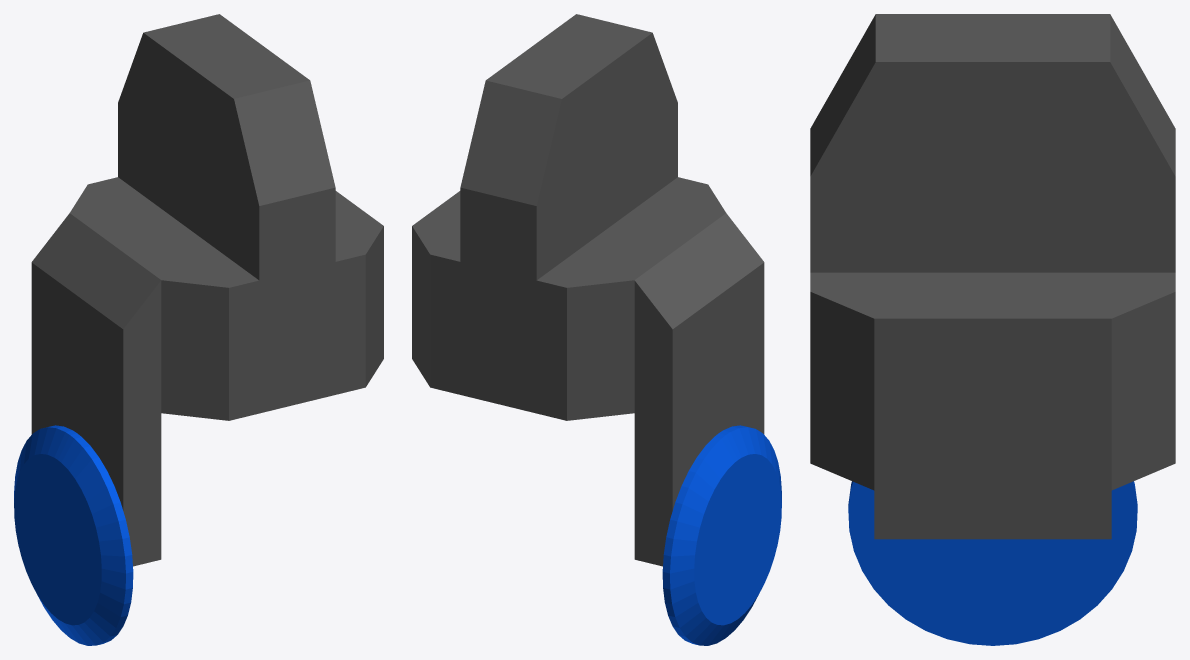
The model's file is arm_link_wrist.dae.
3 renders of one model, left to right at view 1: azimuth 30°, elevation 25°; view 2: azimuth 150°, elevation 25°; view 3: azimuth 270°, elevation 25°, orthographic. The views are drawn at different scales.
Parts seen in each view (by area): view 1: 简化手掌, 大关节盖; view 2: 简化手掌, 大关节盖; view 3: 简化手掌, 大关节盖.
Part boxes in pixels (x1,y1,x2,y2): 简化手掌: [31, 14, 383, 566]; 大关节盖: [14, 425, 133, 645]; 简化手掌: [412, 14, 764, 566]; 大关节盖: [662, 425, 781, 645]; 简化手掌: [810, 14, 1175, 539]; 大关节盖: [848, 481, 1137, 645].
Bounding box in the file's own units: 0.0881 × 0.077 × 0.1634.
